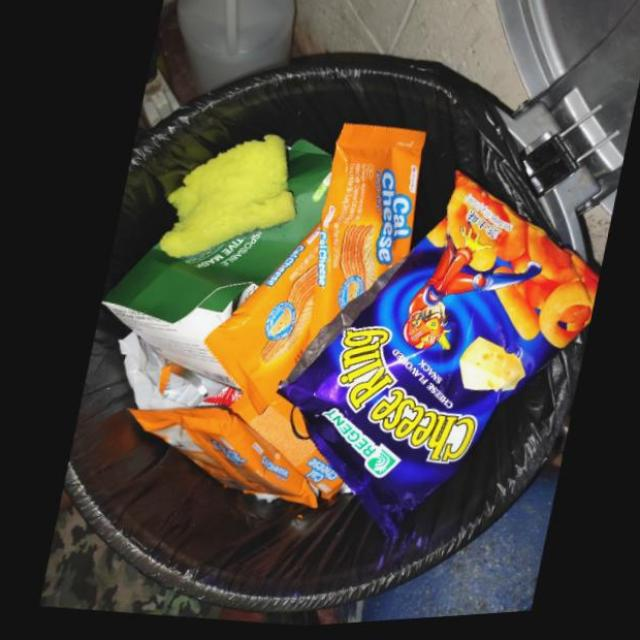bao_bi_thuc_pham: (272, 178, 594, 549), (302, 128, 418, 350), (199, 229, 314, 419), (124, 410, 316, 513), (225, 395, 340, 504)
carton: (96, 144, 325, 396)
giay: (114, 336, 237, 415)
